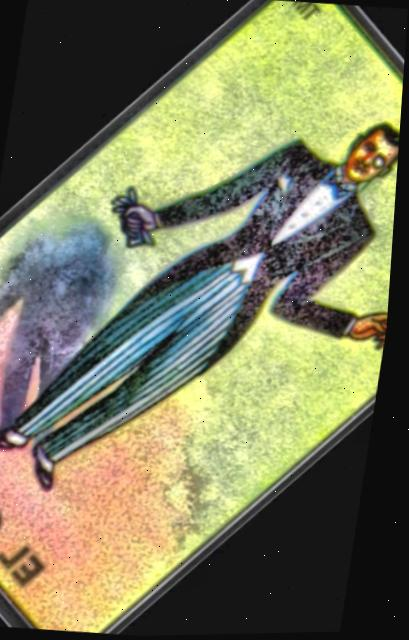El Catrin: (0, 0, 404, 633)
